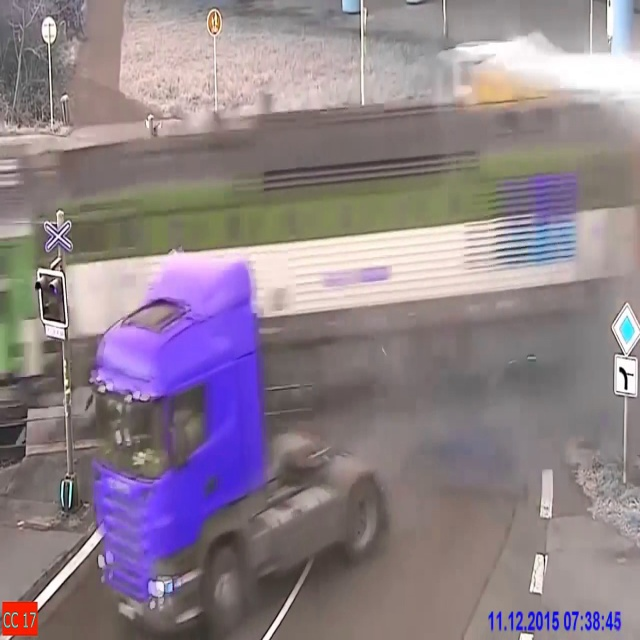acc: (438, 34, 632, 493)
